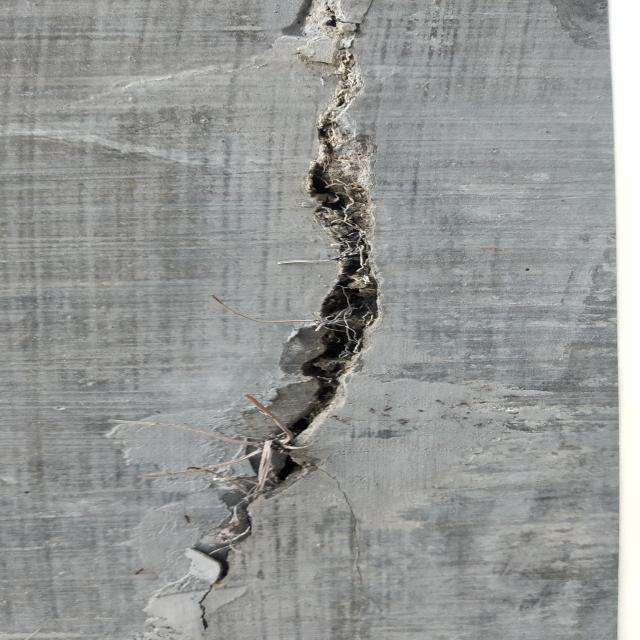Crack: (172, 1, 402, 640)
